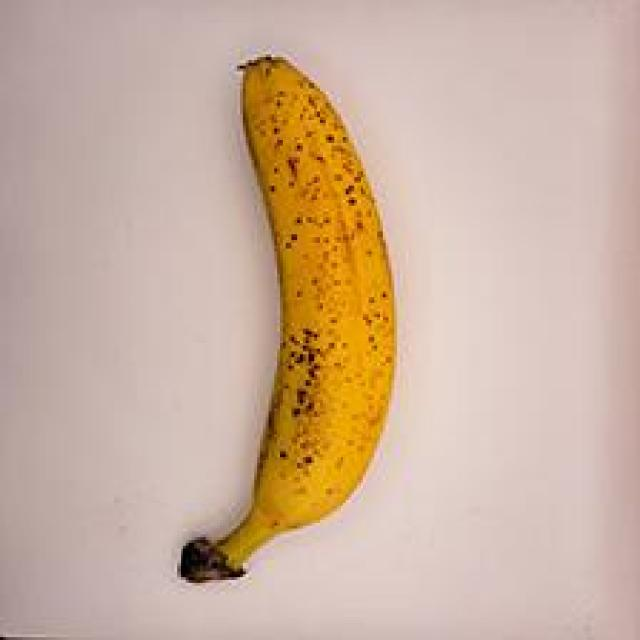Overripe: (147, 33, 422, 601)
